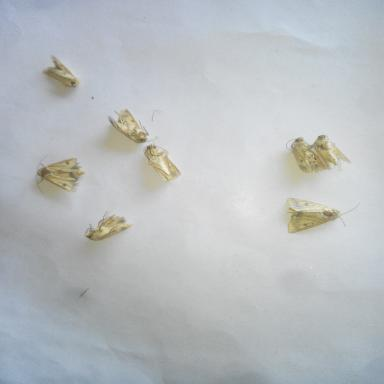abw: (277, 193, 366, 237), (29, 150, 96, 201), (99, 104, 155, 147), (82, 206, 140, 246), (280, 130, 324, 178), (140, 143, 187, 187), (36, 52, 83, 93), (308, 132, 356, 170)
